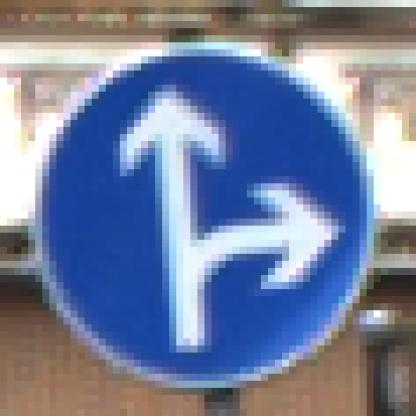Straight or Right: (36, 43, 375, 382)
